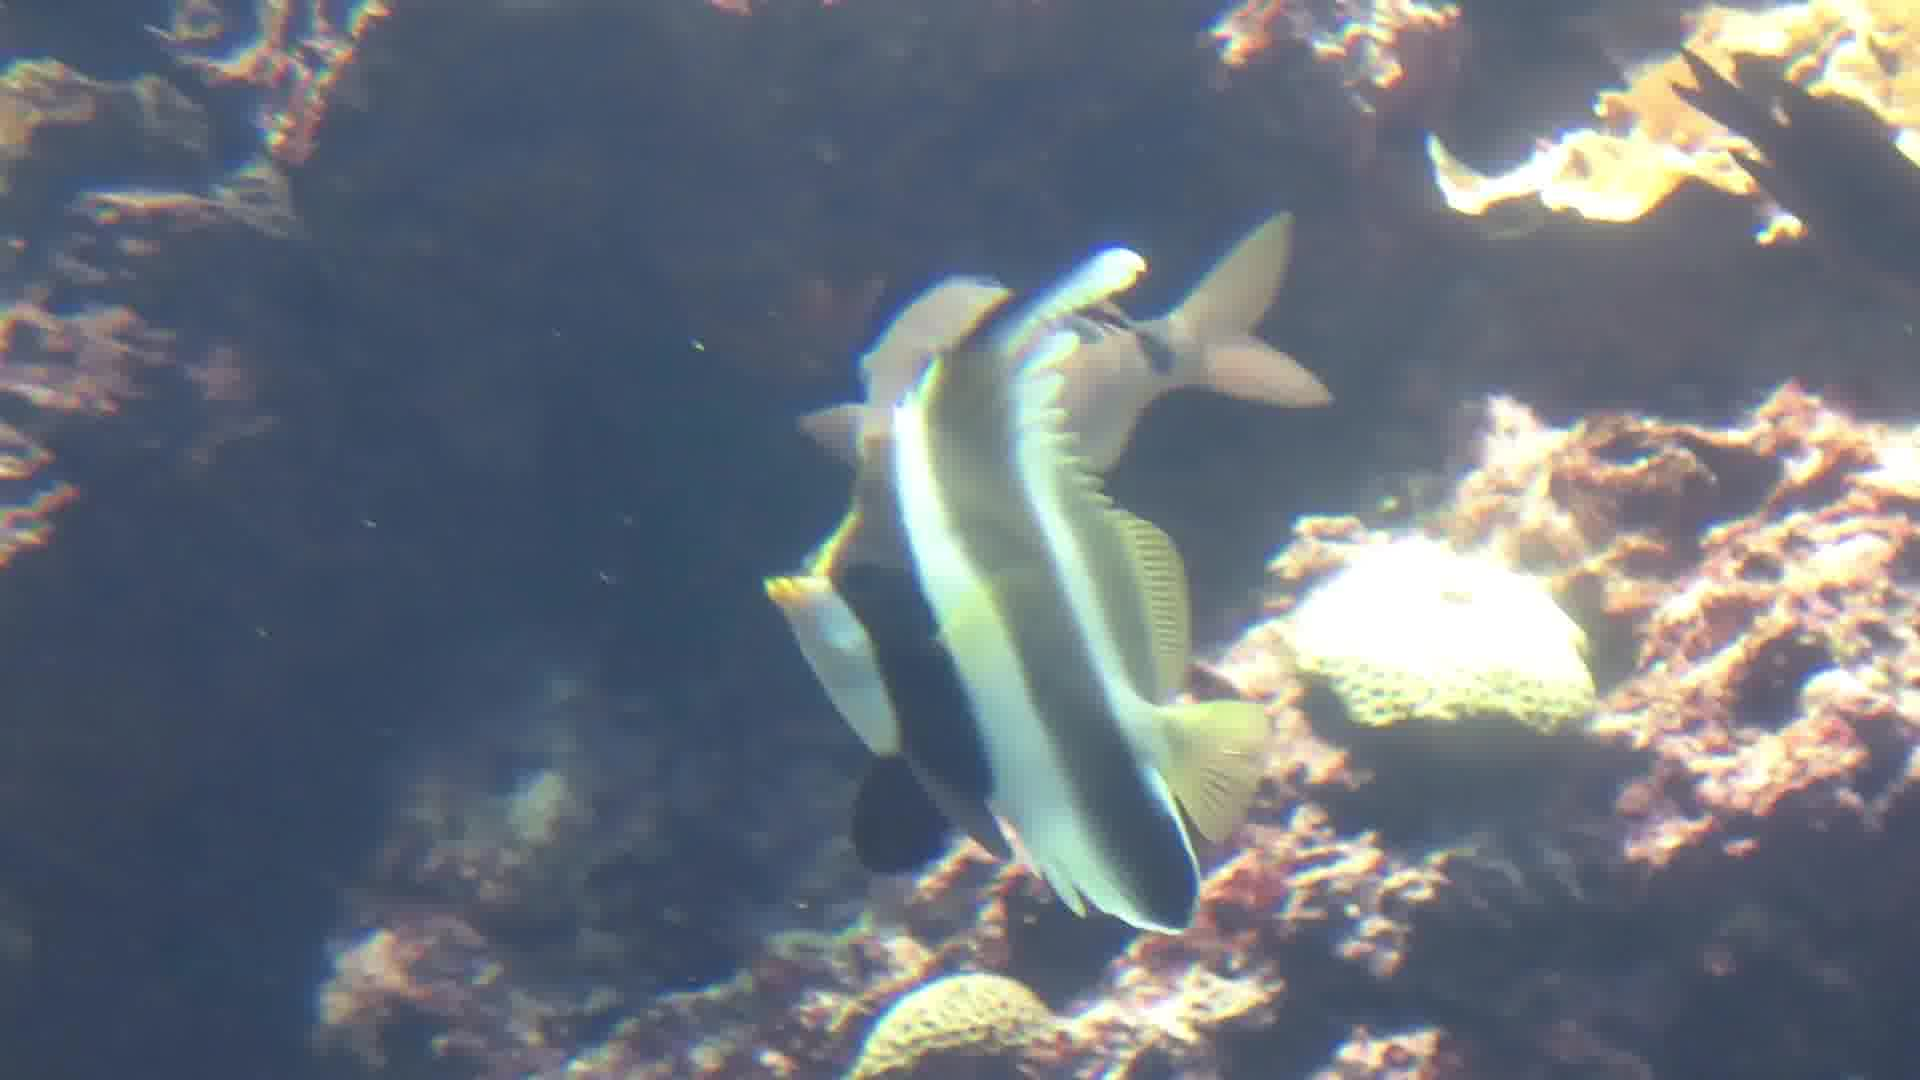Heniochus chrysostomus: (682, 233, 1349, 931)
